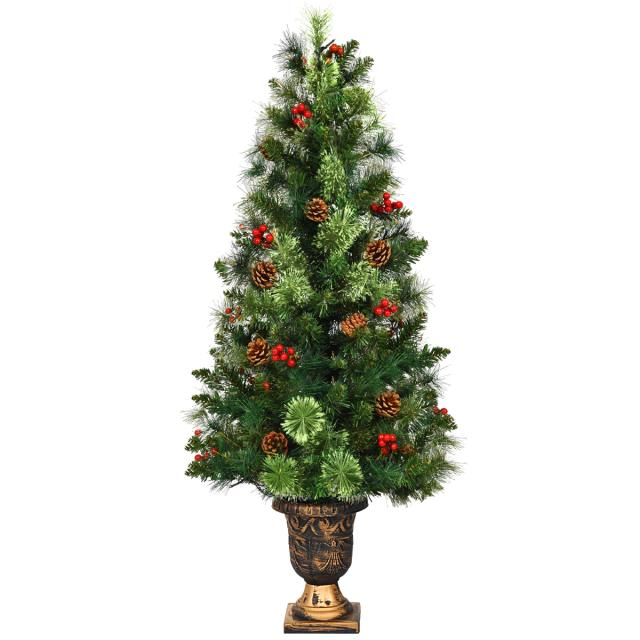Christmas-tree: (140, 0, 465, 501)
